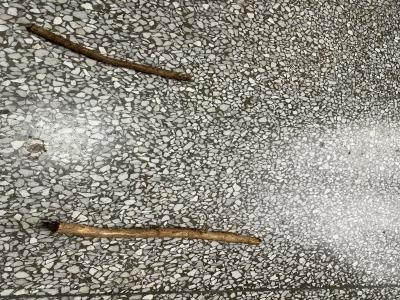Root: (26, 24, 192, 81), (50, 223, 261, 245)
